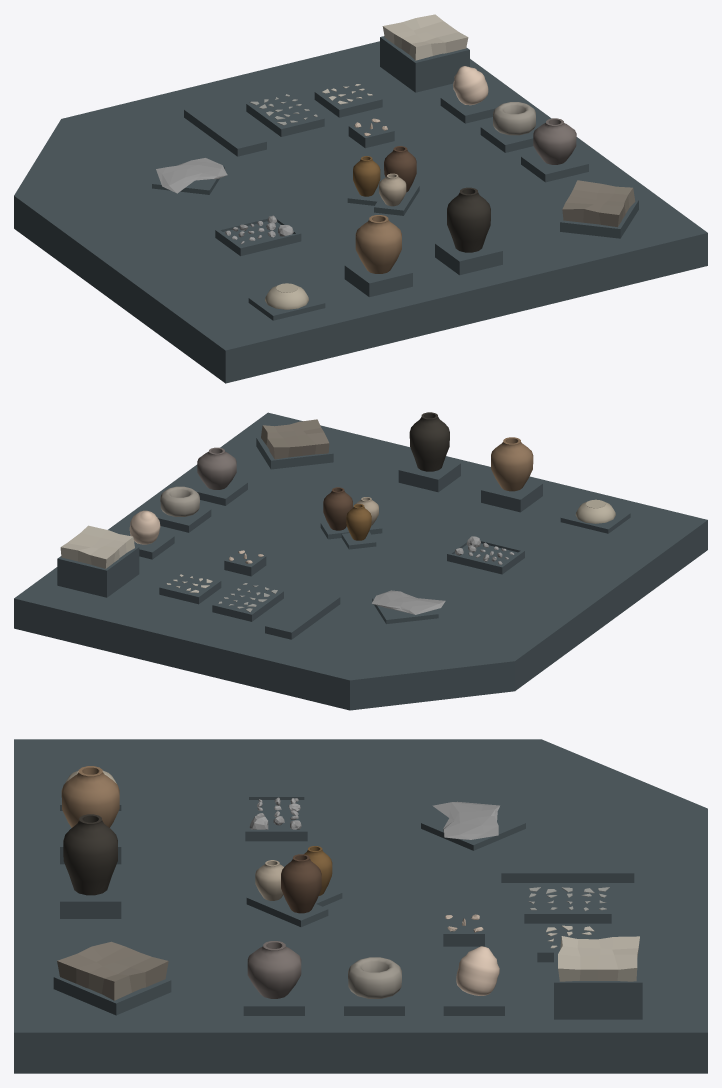
The model's file is Etalase_6.fbx.
The picture shows the model from 3 angles, top to bottom: view 1: azimuth 30°, elevation 25°; view 2: azimuth 150°, elevation 25°; view 3: azimuth 270°, elevation 25°; orthographic projection. The views are drawn at different scales.
Visible parts, largest first — view 1: Cube.324, Cube.450, Cube.438, E6 Vas 2, E6 Vas 3, E6 Vas 1, Icosphere.003, E6 Lumpang, E6 Batu fosil kerang, E6 Vas 4, Plane.056, E6 Vas 6 (+2 smaller); view 2: Cube.324, Cube.438, Cube.450, E6 Vas 2, E6 Vas 3, E6 Vas 1, Icosphere.003, E6 Lumpang, E6 Vas 4, E6 Batu fosil kerang, Plane.056, E6 Vas 6 (+1 smaller); view 3: Cube.324, Cube.450, E6 Vas 2, Cube.438, E6 Vas 3, E6 Vas 1, Icosphere.003, E6 Lumpang, E6 Vas 4, E6 Batu fosil kerang, E6 Vas 5, E6 Batu fosil (+1 smaller).
Part boxes in pixels (x1,y1,x2,y2): Cube.324: (14,36,707,383); Cube.450: (562,180,635,227); Cube.438: (382,14,468,60); E6 Vas 2: (447,187,490,252); E6 Vas 3: (355,215,401,273); E6 Vas 1: (533,118,576,164); Icosphere.003: (156,158,227,193); E6 Lumpang: (493,102,535,135); E6 Batu fosil kerang: (453,66,488,105); E6 Vas 4: (384,146,416,192); Plane.056: (265,283,308,309); E6 Vas 6: (353,156,380,196); Cube.324: (14,412,707,710); Cube.438: (60,525,134,568); Cube.450: (261,419,329,459); E6 Vas 2: (409,412,449,471); E6 Vas 3: (491,437,533,491); E6 Vas 1: (197,447,236,489); Icosphere.003: (372,590,445,614); E6 Lumpang: (160,486,199,516); E6 Vas 4: (323,487,352,530); E6 Batu fosil kerang: (129,510,160,544); Plane.056: (575,499,615,523); E6 Vas 6: (346,504,371,540); Cube.324: (14,739,707,1073); Cube.450: (57,941,168,1000); E6 Vas 2: (63,814,117,895); Cube.438: (558,936,639,981); E6 Vas 3: (61,766,119,827); E6 Vas 1: (247,941,301,998); Icosphere.003: (432,801,499,839); E6 Lumpang: (348,957,401,998); E6 Vas 4: (281,854,321,913); E6 Batu fosil kerang: (456,946,499,995); E6 Vas 5: (255,860,283,900); E6 Batu fosil: (249,797,301,829).
Bounding box in the file's own units: 500 × 102 × 500.
